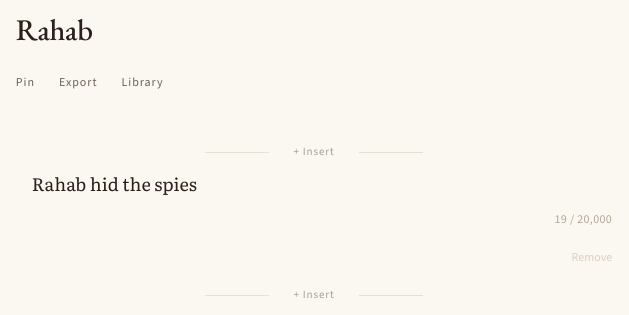
Scenario: StudyEditor — autosave and save state › typing in a text block saves by itself (update_text on the block id) and shows Saved
Replace the text in the text box named "Text block 1" with "Rahab hid the spies, and lied about it": (322, 184) [32,168,612,200]
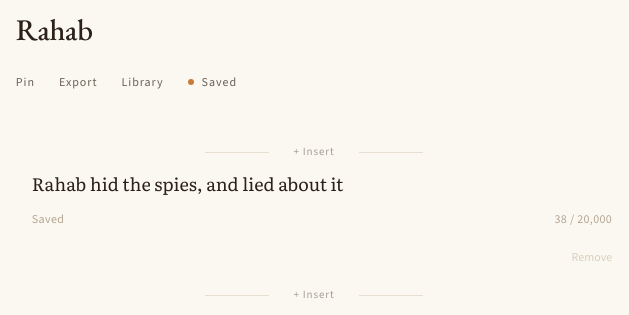
Result: the text "Saved" is shown at [188,74,237,90]
